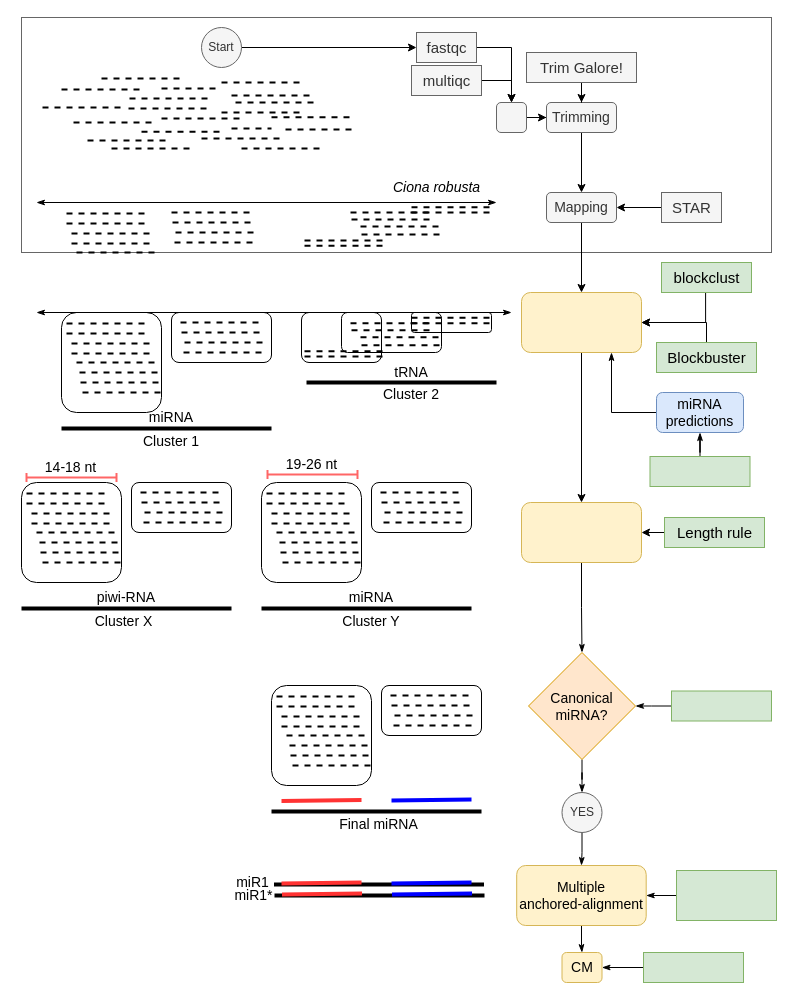
Some shapes in this 794 by 1000 pixel diagram are drawn without their labels. Here are the shapes that lost their labels. From the top down, the box of each, then its label:
(496, 102, 526, 132): QC
(520, 292, 642, 352): Block & cluster definition
(649, 456, 750, 486): miRNAture
(520, 502, 642, 562): miRNA/piwi-RNA delimitation
(670, 690, 772, 721): MIRfix v.2.0
(676, 870, 776, 920): Consensus Evaluation
(642, 952, 744, 982): INFERNAL
